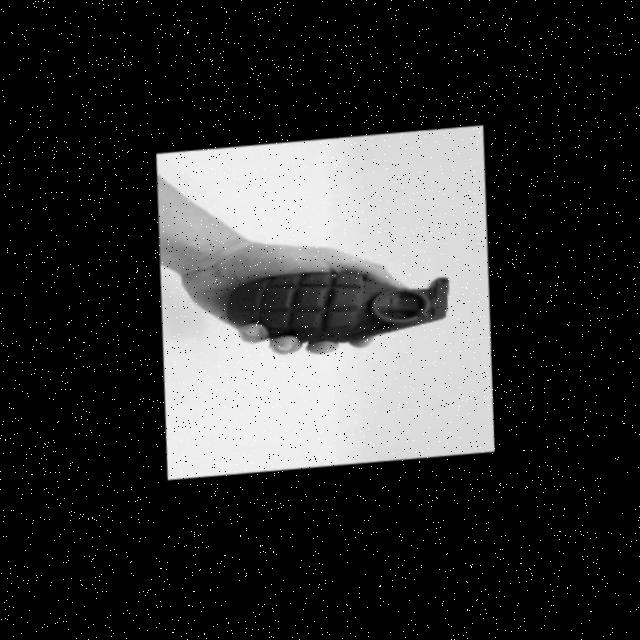grenade: (194, 255, 461, 378)
